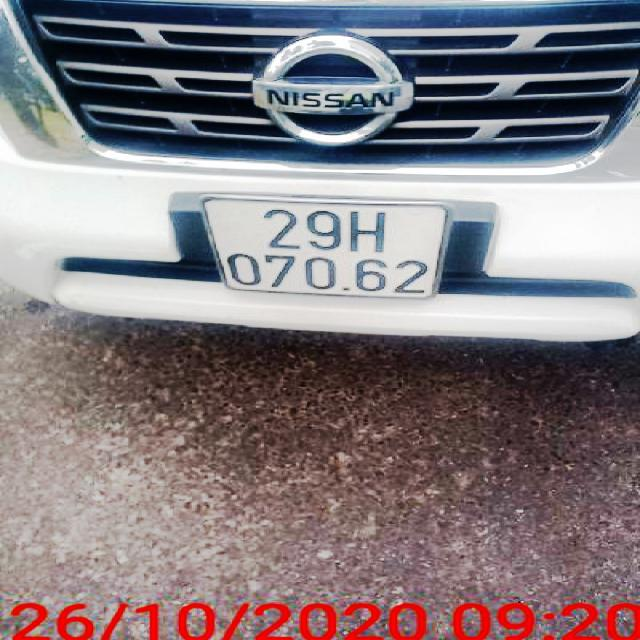license_plate: (209, 199, 450, 298)
